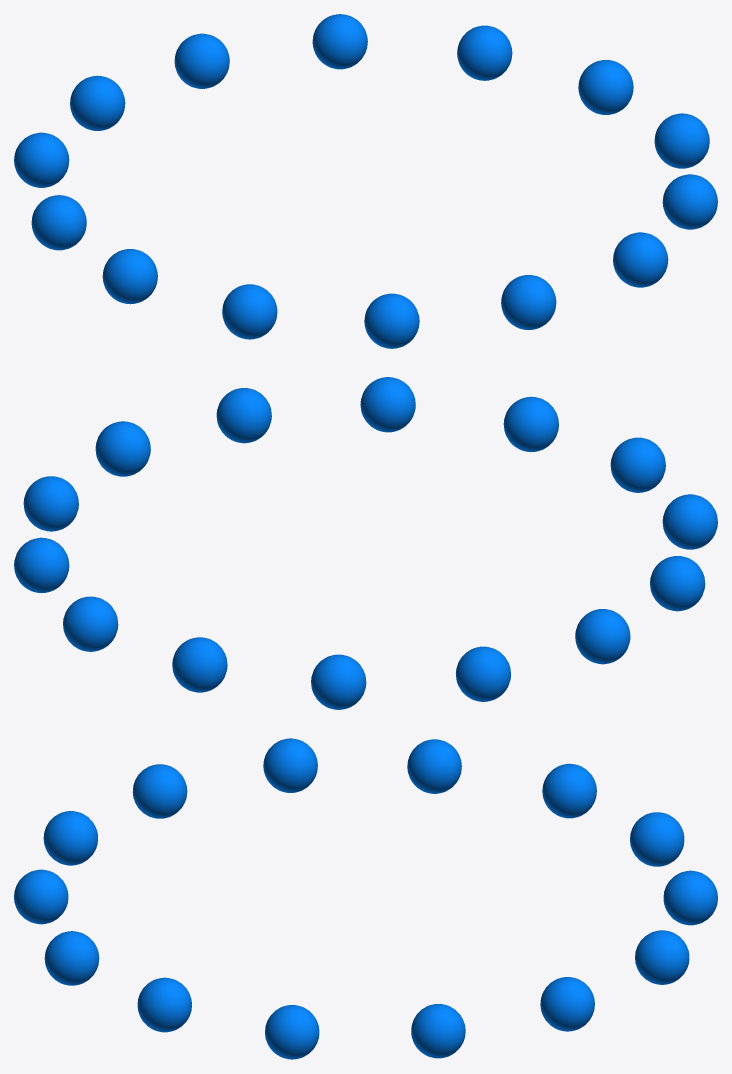
3 views of the same model, one above another, from view 1: azimuth 30°, elevation 25°; view 2: azimuth 150°, elevation 25°; view 3: azimuth 270°, elevation 25° (orthographic).
Visible parts, largest first — view 1: Sphere047; view 2: Sphere047; view 3: Sphere047.
Part boxes in pixels (bbox=[...]): Sphere047: bbox=[14, 14, 717, 348]; Sphere047: bbox=[14, 377, 717, 709]; Sphere047: bbox=[14, 738, 717, 1059].
Size of the model in its own units: 103 by 8.22 by 106.
